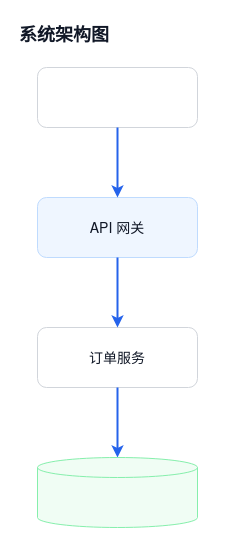
This 234x545 diagram has some shape labels left out. The centre of each missing label's shape, as x and y in pixels:
PostgreSQL: pixel 117 492
客户端: pixel 117 97
